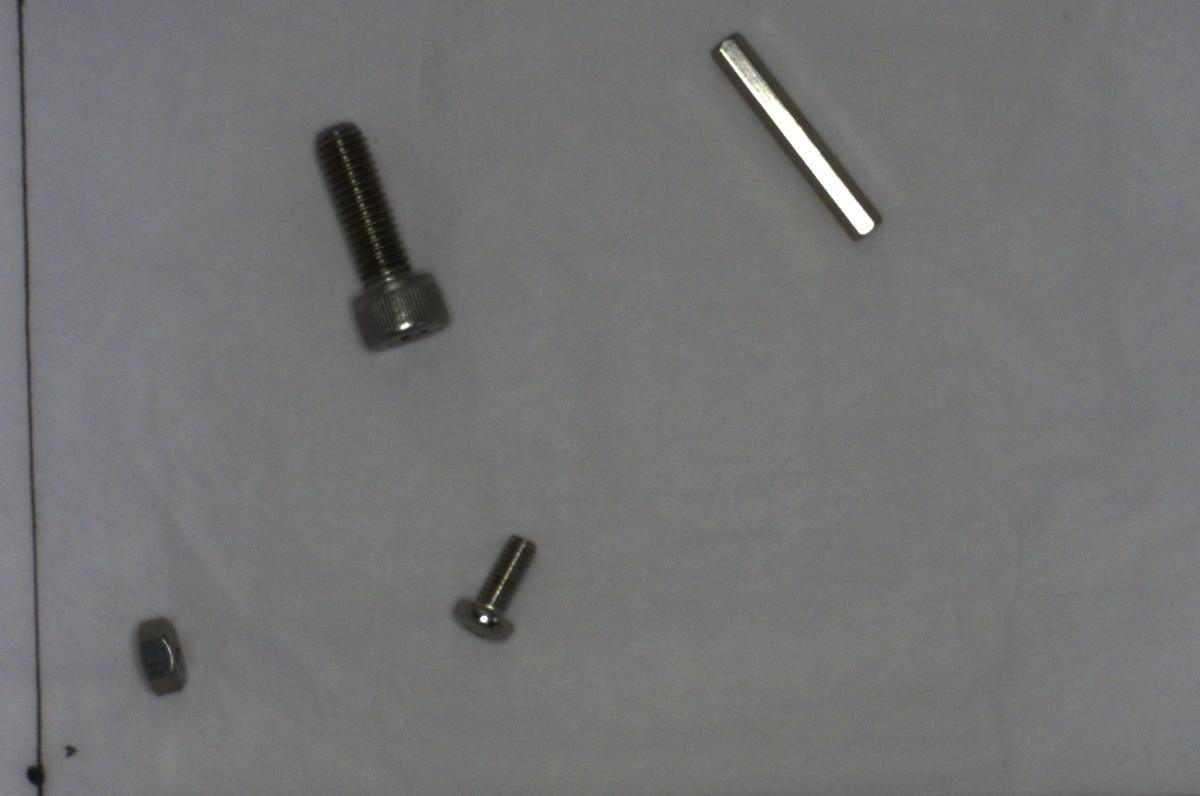Double hexagonal column: (701, 22, 893, 248)
Hexagon nut: (120, 609, 197, 705)
Hexagon screw: (302, 107, 461, 360)
Round head screw: (446, 523, 540, 648)
